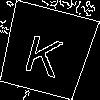K: (22, 25, 68, 78)
